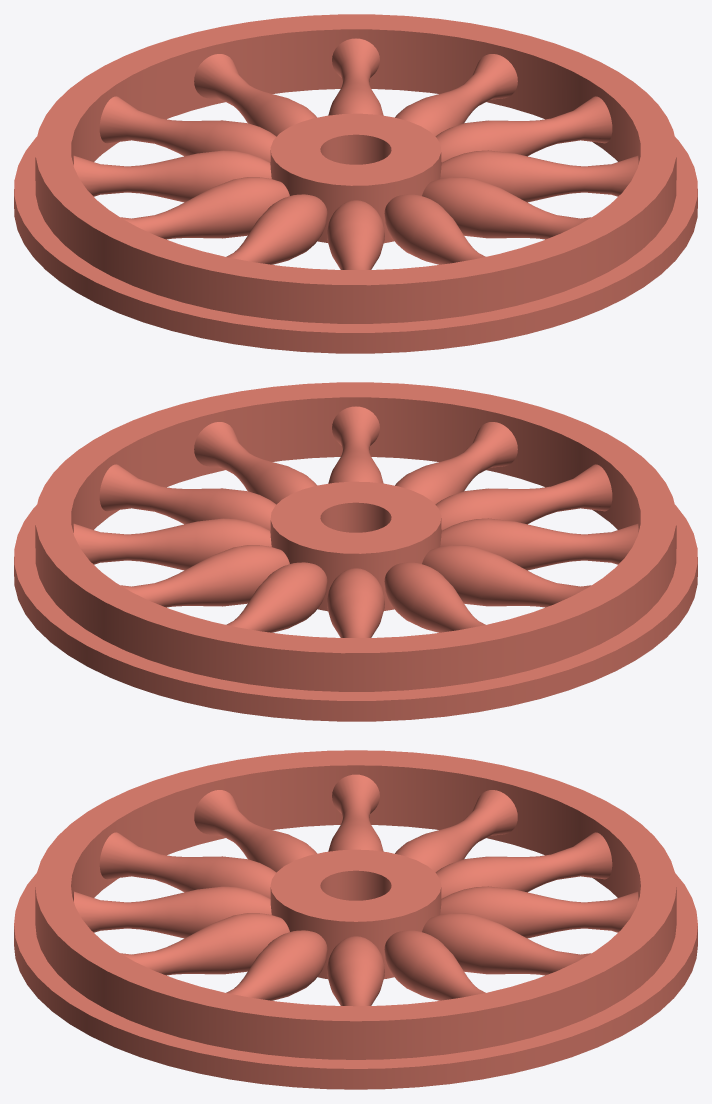
Rendered from FBXWheel.glb.
3 renders of one model, top to bottom at view 1: azimuth 30°, elevation 25°; view 2: azimuth 150°, elevation 25°; view 3: azimuth 270°, elevation 25°, orthographic.
Parts seen in each view (by area): view 1: TrainWheel (1) (5); view 2: TrainWheel (1) (5); view 3: TrainWheel (1) (5).
Boxes of the visible parts, x1,y1,x2,y2 form: TrainWheel (1) (5): (14,14,697,353); TrainWheel (1) (5): (14,382,697,721); TrainWheel (1) (5): (14,750,697,1089).
Size of the model in its own units: 48 by 4.6 by 48.
